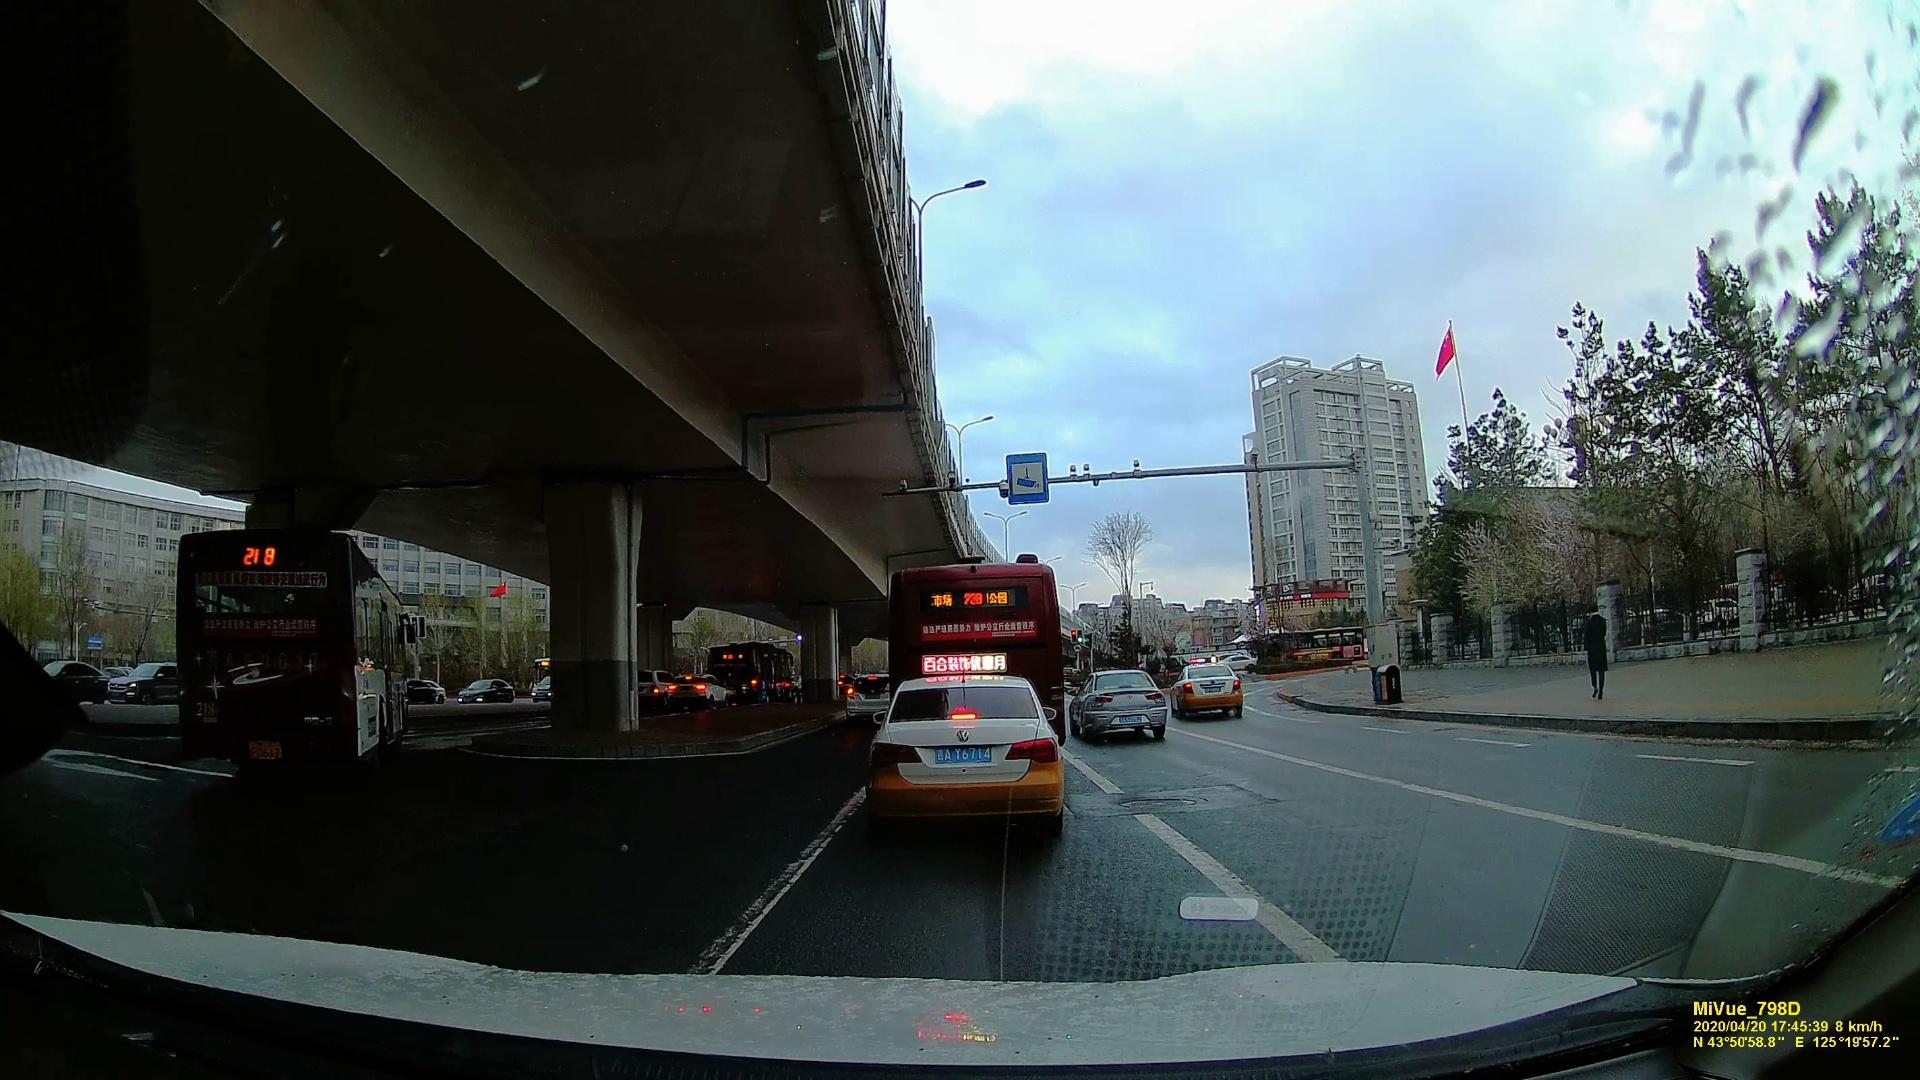bus: (179, 536, 417, 776), (899, 557, 1049, 729), (707, 644, 793, 698), (1257, 632, 1363, 667)
person: (1577, 608, 1609, 696)
traffic_sign: (1004, 451, 1052, 503)
vehicle: (871, 674, 1069, 829), (1070, 667, 1170, 742), (1176, 660, 1243, 720), (100, 656, 176, 700), (450, 676, 512, 704)
